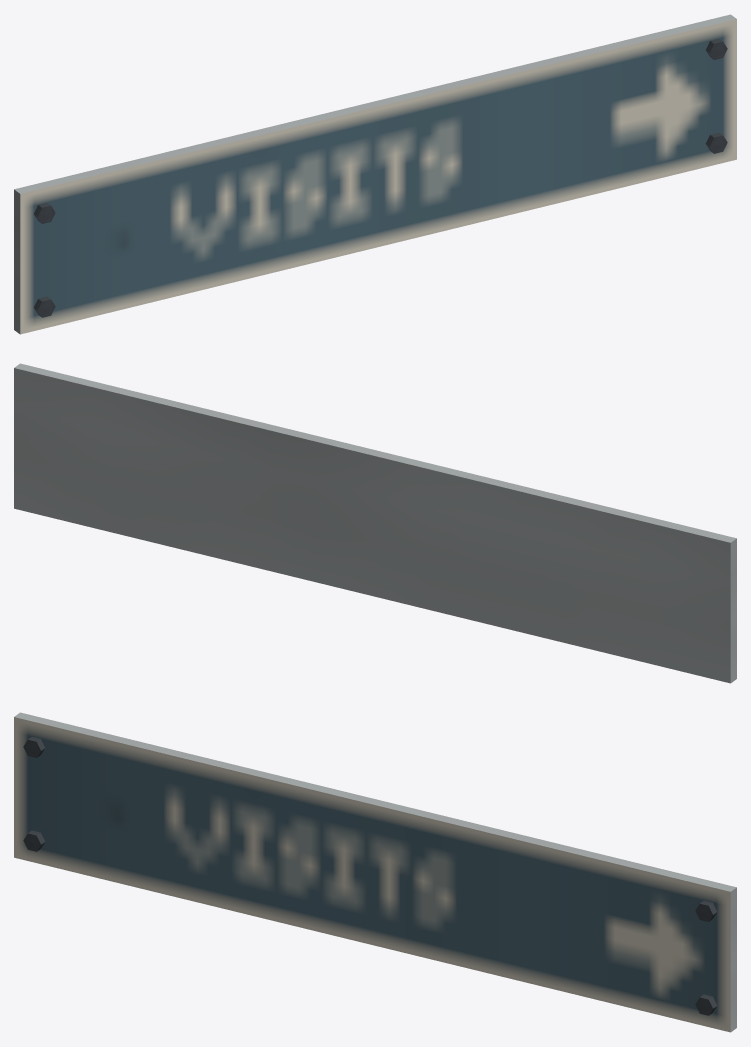
File: sign_visits.fbx
3 renders of one model, top to bottom at view 1: azimuth 30°, elevation 25°; view 2: azimuth 150°, elevation 25°; view 3: azimuth 330°, elevation 25°, orthographic.
Visible parts, largest first — view 1: sign_visits; view 2: sign_visits; view 3: sign_visits.
Boxes of the visible parts, x1,y1,x2,y2 form: sign_visits: (14,14,736,334); sign_visits: (14,363,736,683); sign_visits: (14,712,736,1032).
Size of the model in its own units: 0.8 by 0.15 by 0.02.
1 material, 1 textured.
